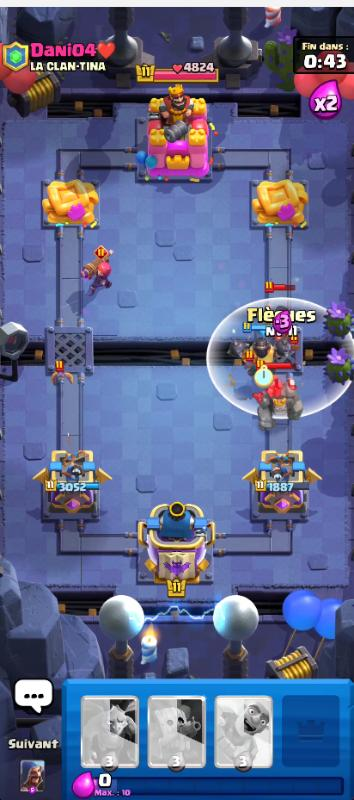bat: (48, 367, 74, 389)
